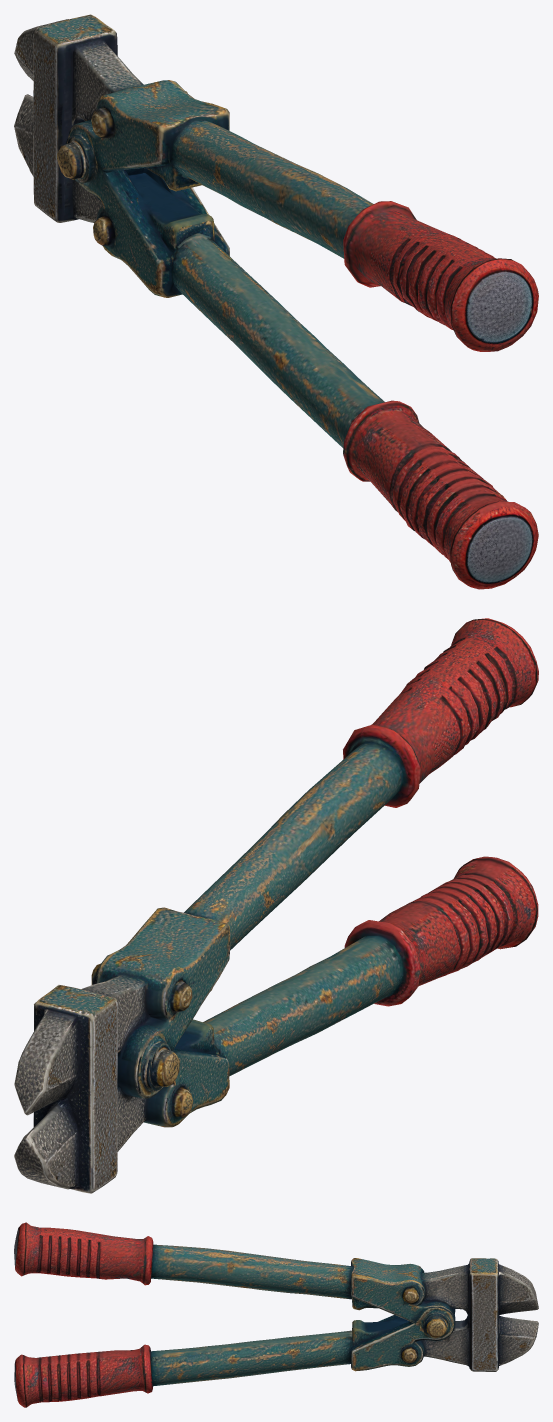
The model's file is BoltCutters.fbx.
The picture shows the model from 3 angles, top to bottom: view 1: azimuth 30°, elevation 25°; view 2: azimuth 150°, elevation 25°; view 3: azimuth 270°, elevation 25°; orthographic projection. The views are drawn at different scales.
Parts seen in each view (by area): view 1: tripo_node_bcd302db-ee05-4f5d-8a29-dbcf0d721048; view 2: tripo_node_bcd302db-ee05-4f5d-8a29-dbcf0d721048; view 3: tripo_node_bcd302db-ee05-4f5d-8a29-dbcf0d721048.
Boxes of the visible parts, bbox=[...] form: tripo_node_bcd302db-ee05-4f5d-8a29-dbcf0d721048: bbox=[14, 14, 538, 589]; tripo_node_bcd302db-ee05-4f5d-8a29-dbcf0d721048: bbox=[14, 618, 538, 1193]; tripo_node_bcd302db-ee05-4f5d-8a29-dbcf0d721048: bbox=[14, 1222, 538, 1407].
Size of the model in its own units: 13.47 by 37.82 by 100.
1 material, 1 textured.
